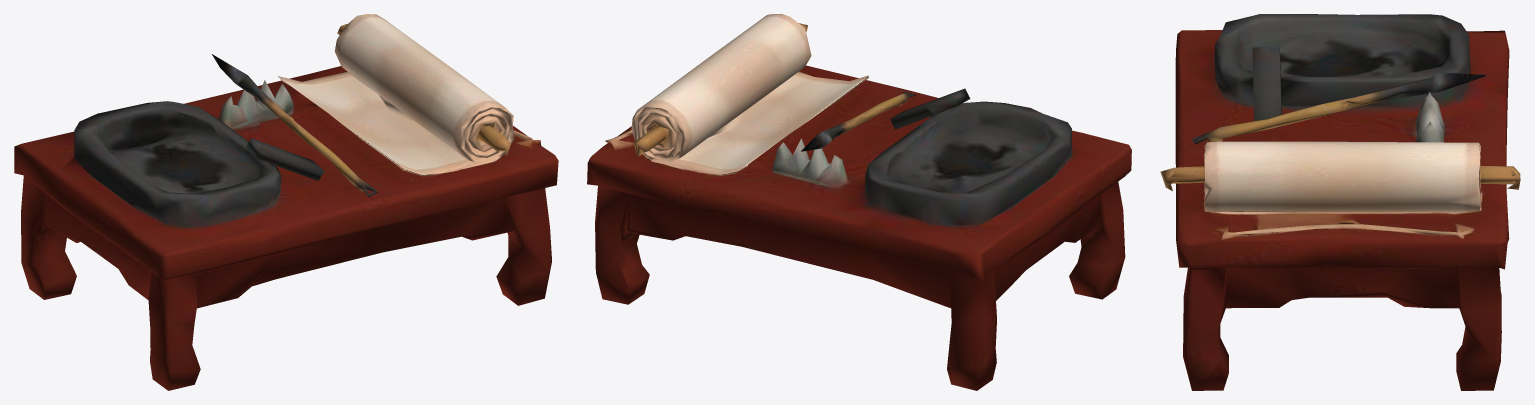
The model's file is inkstone_set.glb.
3 renders of one model, left to right at view 1: azimuth 30°, elevation 25°; view 2: azimuth 150°, elevation 25°; view 3: azimuth 270°, elevation 25°, orthographic. The views are drawn at different scales.
Visible parts, largest first — view 1: tripo_node_852d1e30-8394-4645-917d-bb6afc77c5ed; view 2: tripo_node_852d1e30-8394-4645-917d-bb6afc77c5ed; view 3: tripo_node_852d1e30-8394-4645-917d-bb6afc77c5ed.
Boxes of the visible parts, <box> form: tripo_node_852d1e30-8394-4645-917d-bb6afc77c5ed: <box>14,14,558,390</box>; tripo_node_852d1e30-8394-4645-917d-bb6afc77c5ed: <box>587,14,1131,390</box>; tripo_node_852d1e30-8394-4645-917d-bb6afc77c5ed: <box>1160,14,1520,390</box>.
Size of the model in its own units: 0.9796 by 0.4716 by 0.7001.
Materials: 1 (1 with a texture image).
